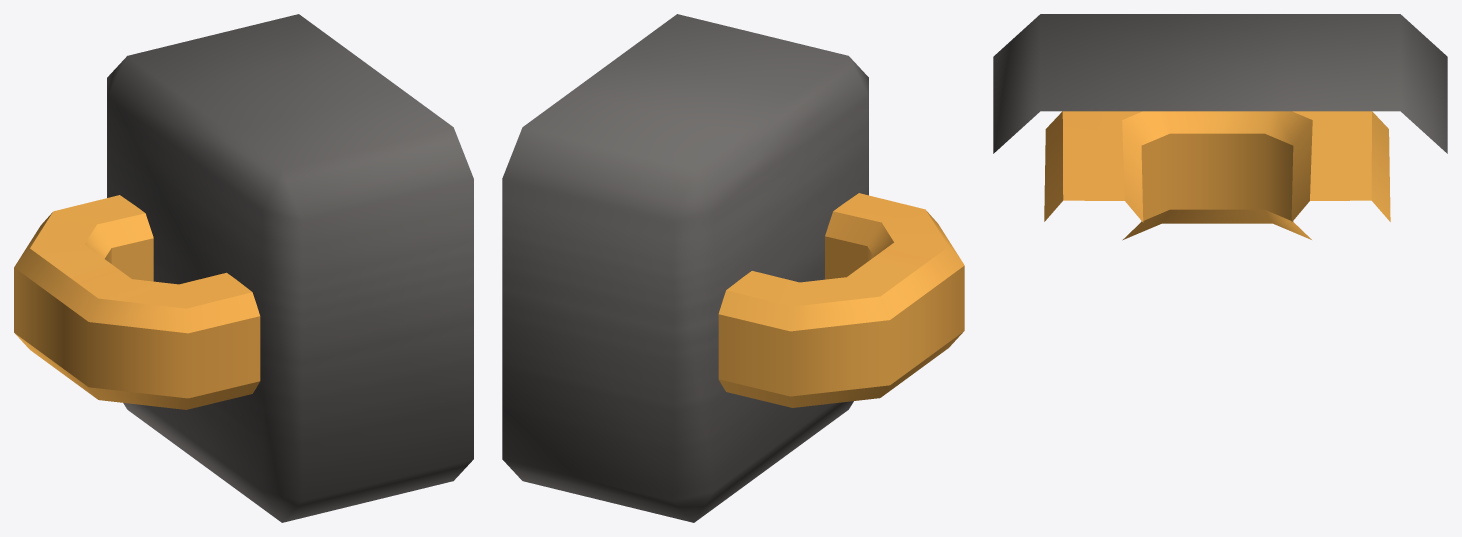
The model's file is ChainCube_2.glb.
3 views of the same model, side by side, from view 1: azimuth 30°, elevation 25°; view 2: azimuth 150°, elevation 25°; view 3: azimuth 270°, elevation 25° (orthographic). The views are drawn at different scales.
Parts seen in each view (by area): view 1: ChainCube_2; view 2: ChainCube_2; view 3: ChainCube_2.
Part boxes in pixels (x1,y1,x2,y2): ChainCube_2: [14, 14, 473, 522]; ChainCube_2: [502, 14, 964, 522]; ChainCube_2: [993, 14, 1447, 240].
Size of the model in its own units: 0.167 by 0.1731 by 0.1731.
2 materials, 2 textured.
